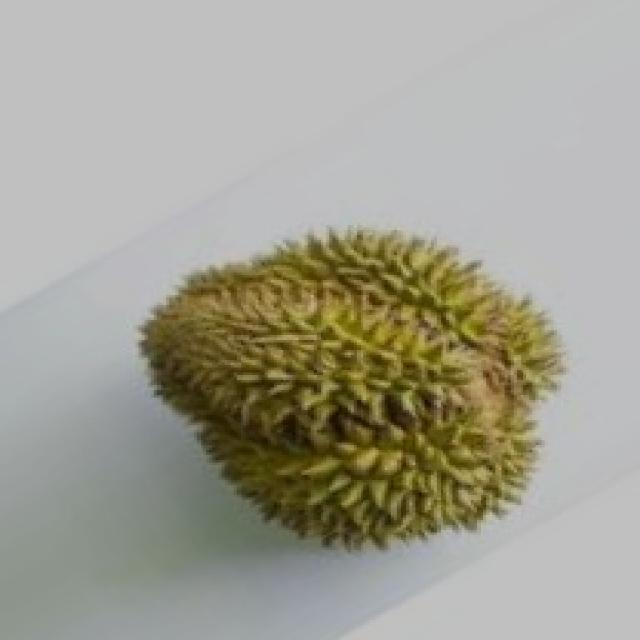fruit: (111, 220, 498, 600)
